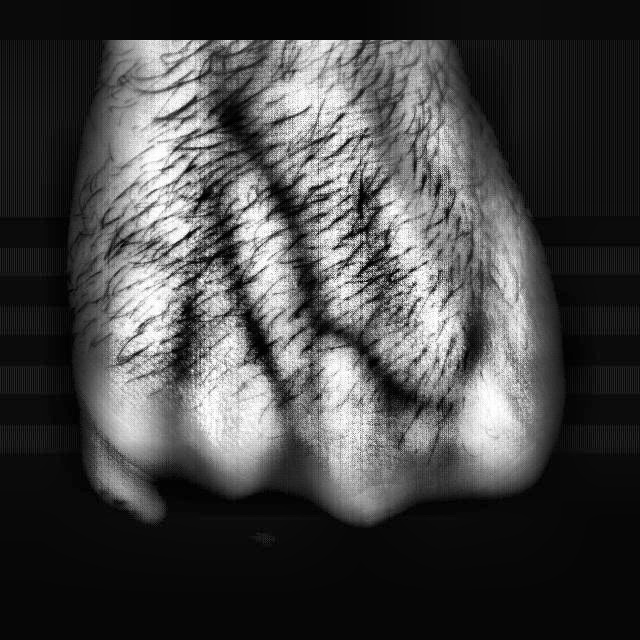Vein: (213, 95, 338, 299)
